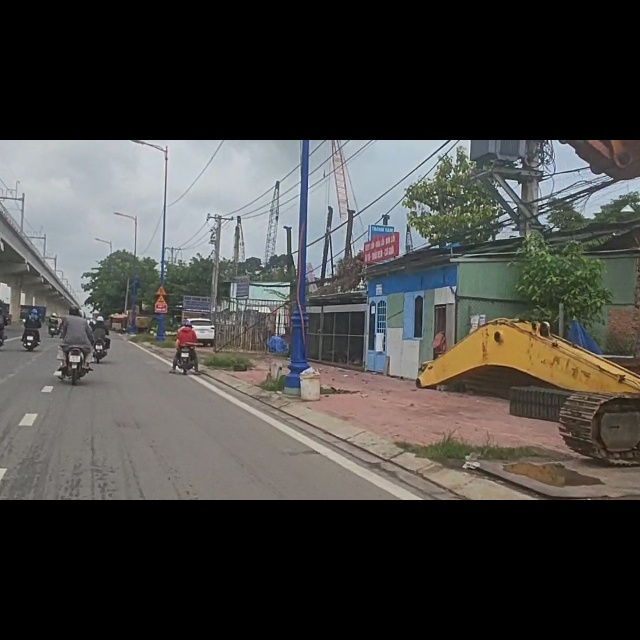bien_nguy_hiem: (155, 256, 168, 275), (155, 276, 169, 293)
